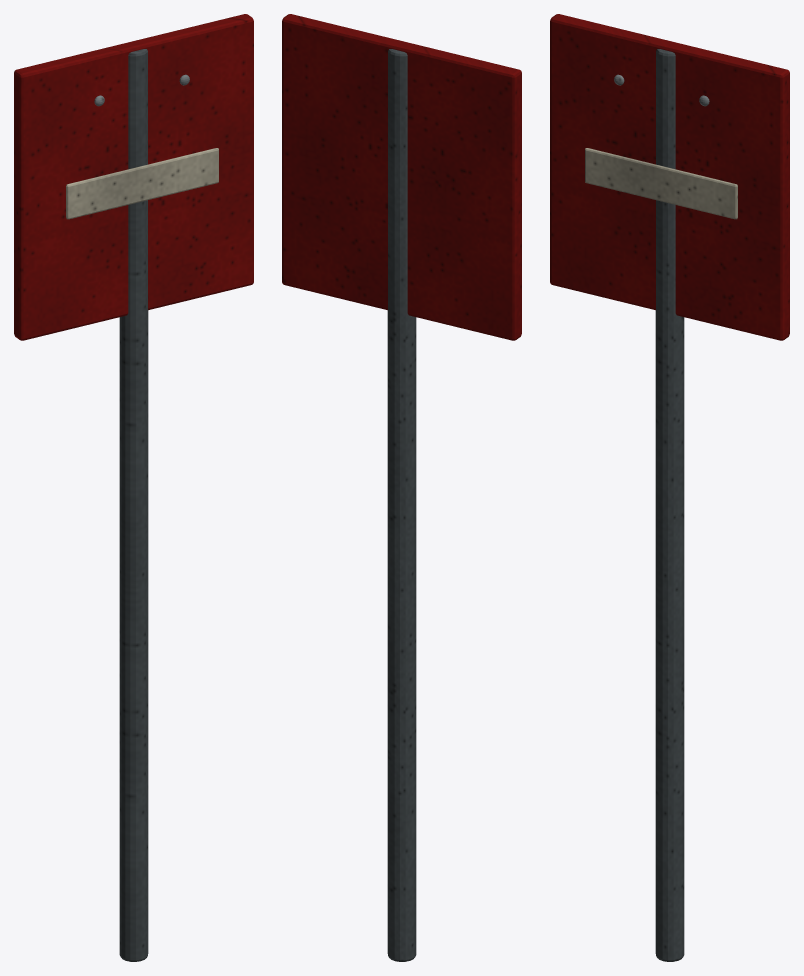
The model's file is PROP-89FEA3749085_lod0.glb.
The picture shows the model from 3 angles, left to right: view 1: azimuth 30°, elevation 25°; view 2: azimuth 150°, elevation 25°; view 3: azimuth 330°, elevation 25°; orthographic projection.
Parts seen in each view (by area): view 1: sign_plate.003, sign_post.005, no_entry_bar; view 2: sign_plate.003, sign_post.005; view 3: sign_plate.003, sign_post.005, no_entry_bar.
Part boxes in pixels (bbox=[...]): sign_plate.003: bbox=[14, 14, 253, 340]; sign_post.005: bbox=[119, 49, 148, 961]; no_entry_bar: bbox=[66, 148, 218, 219]; sign_plate.003: bbox=[282, 14, 521, 340]; sign_post.005: bbox=[387, 49, 416, 961]; sign_plate.003: bbox=[550, 14, 789, 340]; sign_post.005: bbox=[655, 49, 684, 961]; no_entry_bar: bbox=[585, 148, 737, 219].
Bounding box in the file's own units: 0.66 × 2.46 × 0.083.
Materials: 4 (4 with a texture image).
